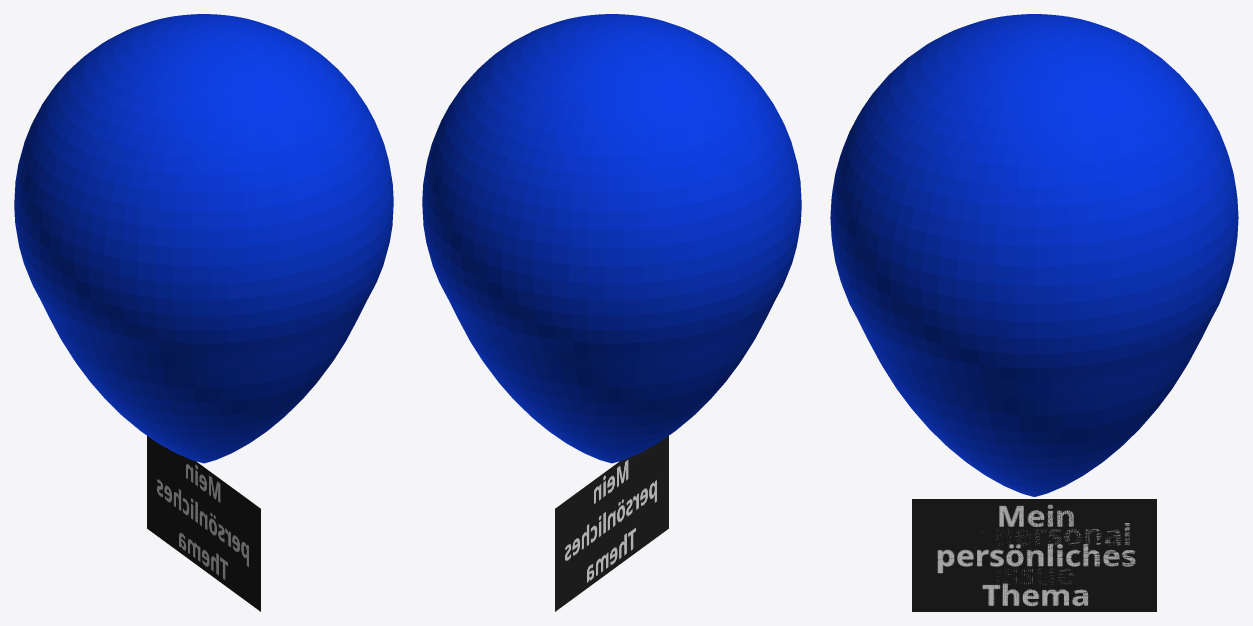
File: ballon_02.glb
3 views of the same model, side by side, from view 1: azimuth 30°, elevation 25°; view 2: azimuth 150°, elevation 25°; view 3: azimuth 270°, elevation 25° (orthographic). The views are drawn at different scales.
Parts seen in each view (by area): view 1: Balloon, Sign_DE; view 2: Balloon, Sign_DE; view 3: Balloon, Sign_DE, Sign_EN.
Boxes of the visible parts, x1,y1,x2,y2 form: Balloon: (14, 14, 393, 463); Sign_DE: (147, 436, 260, 611); Balloon: (422, 14, 801, 463); Sign_DE: (555, 436, 668, 611); Balloon: (830, 14, 1238, 496); Sign_DE: (912, 501, 1156, 611); Sign_EN: (912, 499, 1156, 609).
Size of the model in its own units: 2 by 3.13 by 2.
3 materials, 2 textured.
